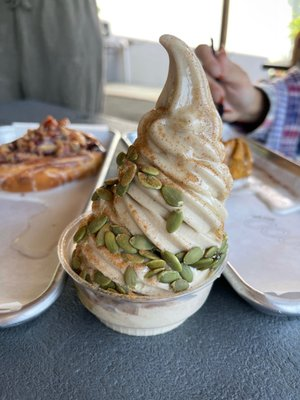sushi: (58, 150, 229, 337)
